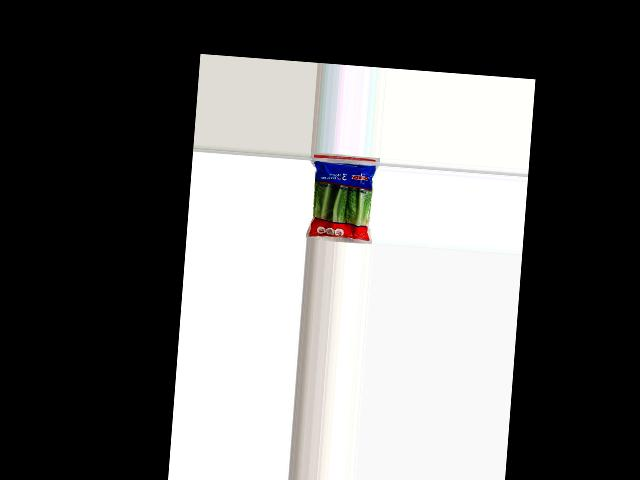lettuce: (307, 159, 376, 244)
